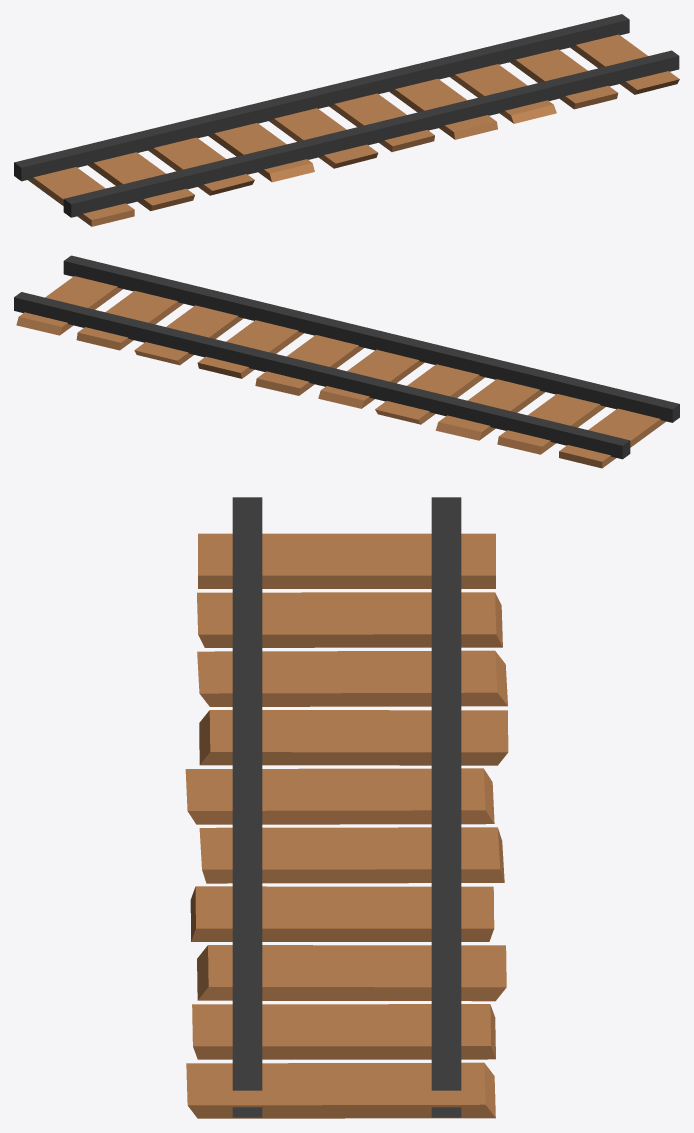
The model's file is HalfRoad.fbx.
3 renders of one model, top to bottom at view 1: azimuth 30°, elevation 25°; view 2: azimuth 150°, elevation 25°; view 3: azimuth 270°, elevation 25°, orthographic. The views are drawn at different scales.
Parts seen in each view (by area): view 1: Cube.001; view 2: Cube.001; view 3: Cube.001.
Boxes of the visible parts, box(x1,y1,x2,y2) form: Cube.001: box(14, 14, 679, 226); Cube.001: box(14, 255, 679, 468); Cube.001: box(185, 497, 508, 1118).
Size of the model in its own units: 28.25 by 0.8568 by 6.49.
